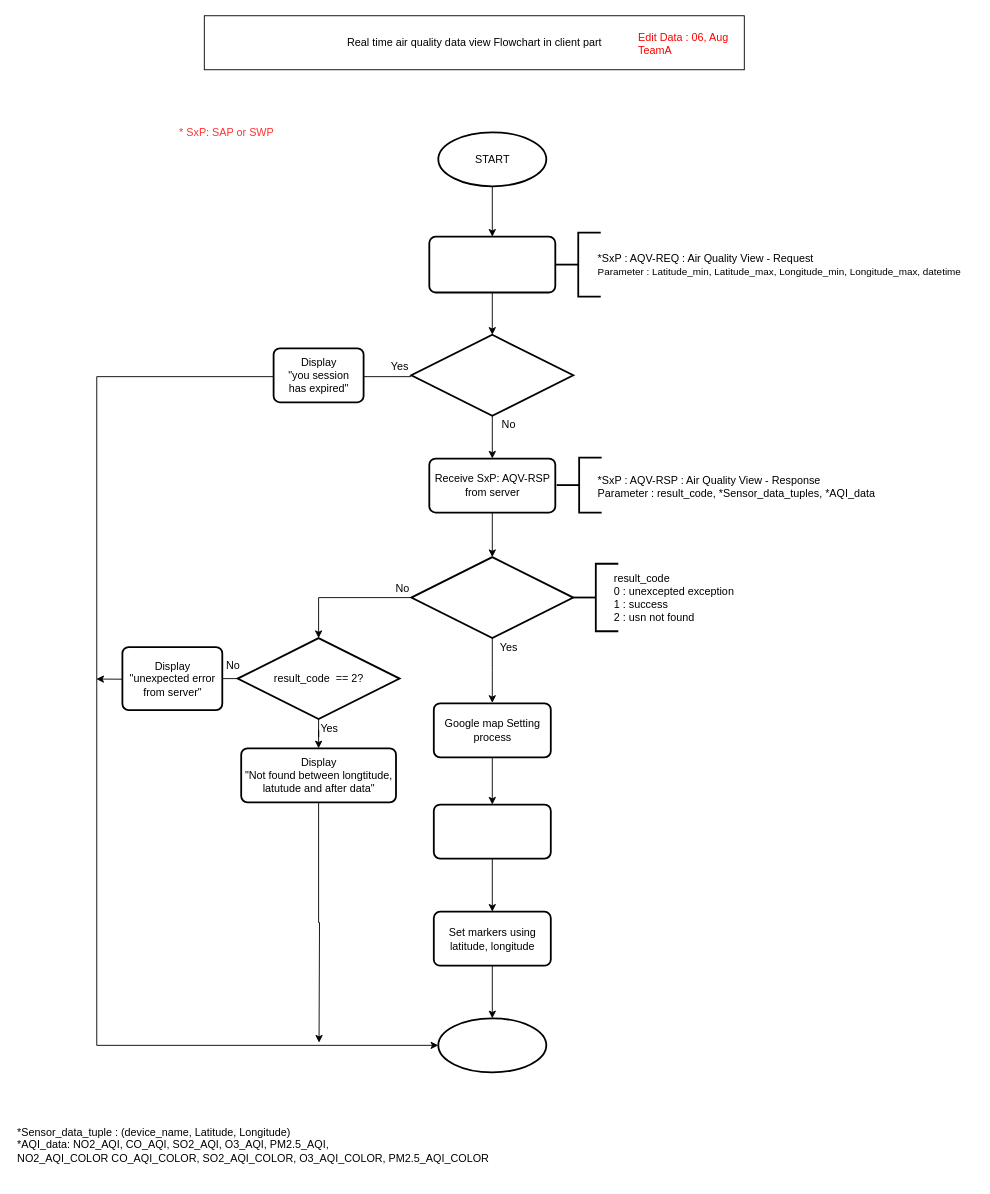
This 990x1194 diagram has some shape labels left out. The centre of each missing label's shape, as x and y in pixels:
"Add listener that map view changing" belongs at (491,831).
"End" belongs at (492,1045).
"result_code == 1?" belongs at (492,597).
"Send *SxP: AQV-REQ to server" belongs at (492,264).
"Timeout (10secs) event is occured?" belongs at (492,374).
